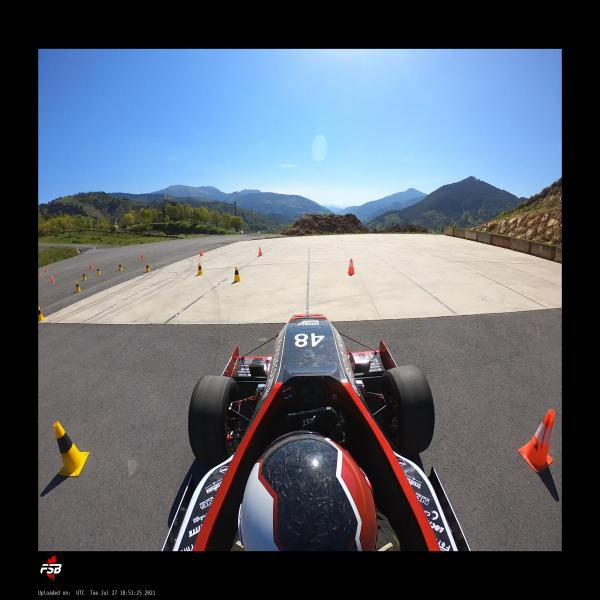orange_cone: (518, 409, 555, 471), (347, 258, 356, 274), (258, 246, 263, 256), (50, 274, 56, 282), (199, 248, 204, 256), (141, 252, 145, 259), (90, 262, 94, 268), (40, 272, 43, 278), (46, 267, 49, 272)
yellow_cone: (52, 421, 90, 477), (232, 266, 242, 283), (38, 306, 46, 322), (196, 262, 204, 275), (74, 280, 82, 292), (145, 262, 151, 272), (96, 266, 102, 275), (118, 261, 124, 270), (82, 271, 87, 281)
